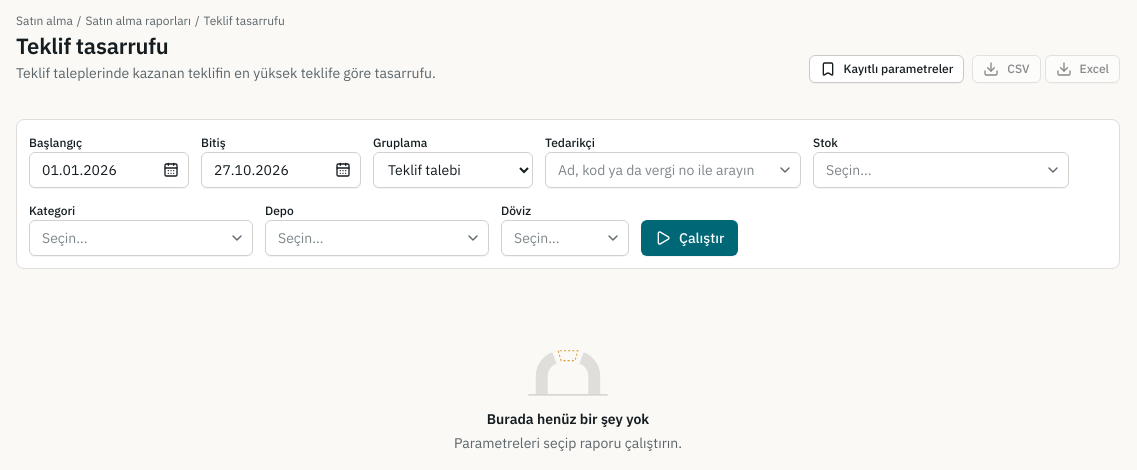
report pages against real row shapes › runs RFQ savings with its default rfq grouping (the mock refuses unknown groups)
Check: the heading "Teklif tasarrufu" is shown, box [16,31,168,61]
Click the button "Çalıştır" at (690, 238), box [641,220,738,256]
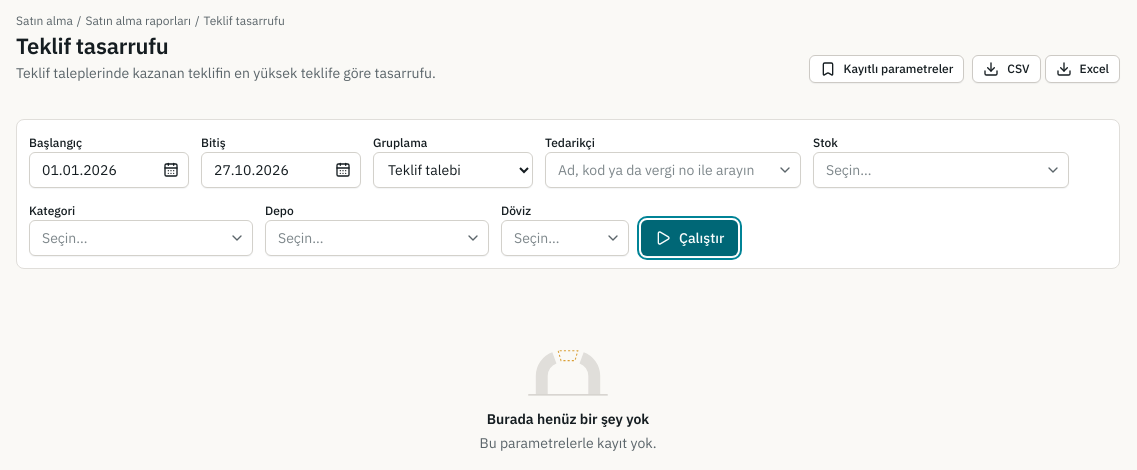
Check: the text "Bu parametrelerle kayıt yok." is shown, box [480,433,656,453]
